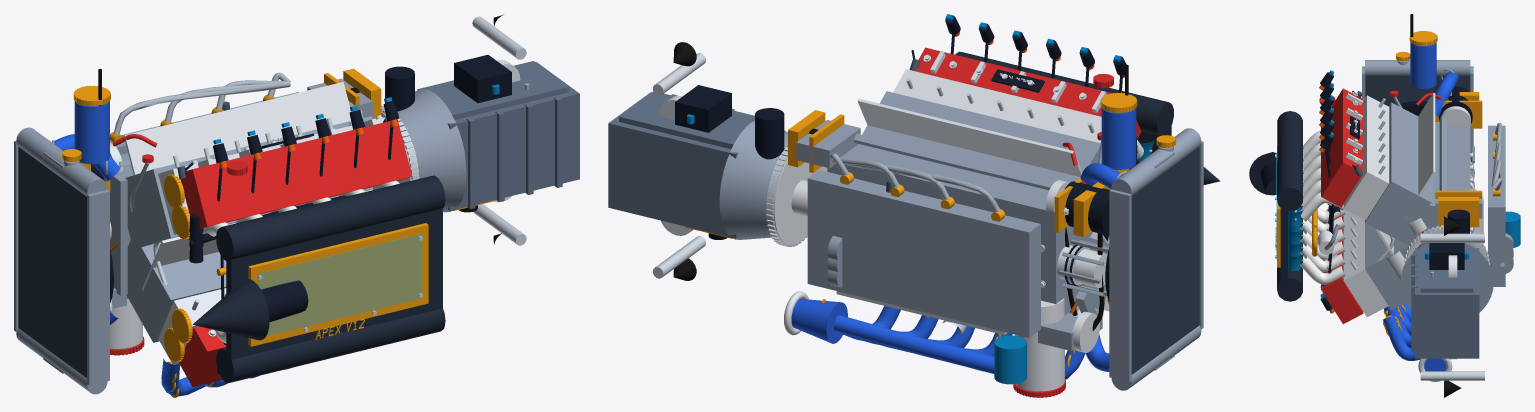
The model's file is v12_racing_engine_refined.glb.
3 renders of one model, left to right at view 1: azimuth 30°, elevation 25°; view 2: azimuth 150°, elevation 25°; view 3: azimuth 270°, elevation 25°, orthographic. The views are drawn at different scales.
Parts seen in each view (by area): view 1: Brazed_Aluminum_Radiator_Core, Valve_Cover_Left, Billet_Perimeter_Raised_Bezel_Frame, Quartz_ITB_Inspection_Window, Sequential_Gearbox_Main_Casing, Bank2_Machined_Deck_Face, Arched_Shoulder_Pontoon_RH, Carbon_Monocoque_Shroud_Plate, Arched_Shoulder_Pontoon_LH, Bank1_Cylinder_Block_Casting, Conical_DieCast_Bellhousing, Core_Side_Rail_Rear (+29 smaller); view 2: Scavenge_Pan_Trough, Brazed_Aluminum_Radiator_Core, Sequential_Gearbox_Main_Casing, Block_Bedplate_Skirt, Bank2_Cylinder_Block_Casting, Bank2_Machined_Deck_Face, Cylinder_Head_Left, Conical_DieCast_Bellhousing, Core_Side_Rail_Front, Valve_Cover_Left, Header_Primary_Pipe_1, Casting_Top_Surface_Plate (+31 smaller); view 3: Bank2_Cylinder_Block_Casting, Sequential_Gearbox_Main_Casing, Cylinder_Head_Left, Valve_Cover_Left, Arched_Shoulder_Pontoon_RH, Scavenge_Pan_Trough, Cylinder_Head_Right, Block_Bedplate_Skirt, Bank1_Cylinder_Block_Casting, Brazed_Aluminum_Radiator_Core, Casting_Top_Surface_Plate, Bank2_Machined_Deck_Face (+34 smaller).
Part boxes in pixels (bbox=[...]): Brazed_Aluminum_Radiator_Core: bbox=[18, 147, 86, 377]; Valve_Cover_Left: bbox=[180, 119, 412, 228]; Billet_Perimeter_Raised_Bezel_Frame: bbox=[248, 223, 428, 346]; Quartz_ITB_Inspection_Window: bbox=[257, 233, 422, 335]; Sequential_Gearbox_Main_Casing: bbox=[415, 62, 579, 210]; Bank2_Machined_Deck_Face: bbox=[123, 82, 351, 177]; Arched_Shoulder_Pontoon_RH: bbox=[216, 175, 445, 261]; Carbon_Monocoque_Shroud_Plate: bbox=[226, 208, 442, 372]; Arched_Shoulder_Pontoon_LH: bbox=[216, 308, 445, 382]; Bank1_Cylinder_Block_Casting: bbox=[126, 234, 226, 342]; Conical_DieCast_Bellhousing: bbox=[397, 89, 466, 212]; Core_Side_Rail_Rear: bbox=[87, 189, 109, 385]; Scavenge_Pan_Trough: bbox=[807, 170, 1040, 337]; Brazed_Aluminum_Radiator_Core: bbox=[1131, 147, 1199, 374]; Sequential_Gearbox_Main_Casing: bbox=[608, 92, 737, 238]; Block_Bedplate_Skirt: bbox=[827, 144, 1082, 315]; Bank2_Cylinder_Block_Casting: bbox=[862, 91, 1100, 241]; Bank2_Machined_Deck_Face: bbox=[857, 98, 1082, 176]; Cylinder_Head_Left: bbox=[893, 69, 1115, 170]; Conical_DieCast_Bellhousing: bbox=[719, 121, 787, 239]; Core_Side_Rail_Front: bbox=[1109, 189, 1131, 382]; Valve_Cover_Left: bbox=[913, 47, 1141, 139]; Header_Primary_Pipe_1: bbox=[834, 315, 1085, 379]; Casting_Top_Surface_Plate: bbox=[619, 91, 754, 148]; Bank2_Cylinder_Block_Casting: bbox=[1365, 102, 1433, 245]; Sequential_Gearbox_Main_Casing: bbox=[1415, 248, 1479, 358]; Cylinder_Head_Left: bbox=[1343, 95, 1389, 219]; Valve_Cover_Left: bbox=[1321, 88, 1363, 207]; Arched_Shoulder_Pontoon_RH: bbox=[1277, 111, 1302, 211]; Scavenge_Pan_Trough: bbox=[1488, 125, 1505, 286]; Cylinder_Head_Right: bbox=[1343, 209, 1388, 317]; Block_Bedplate_Skirt: bbox=[1429, 122, 1470, 230]; Bank1_Cylinder_Block_Casting: bbox=[1365, 223, 1408, 309]; Brazed_Aluminum_Radiator_Core: bbox=[1365, 76, 1470, 106]; Casting_Top_Surface_Plate: bbox=[1420, 246, 1473, 292]; Bank2_Machined_Deck_Face: bbox=[1406, 92, 1435, 217].
Size of the model in its own units: 1.54 by 0.9644 by 0.928.
